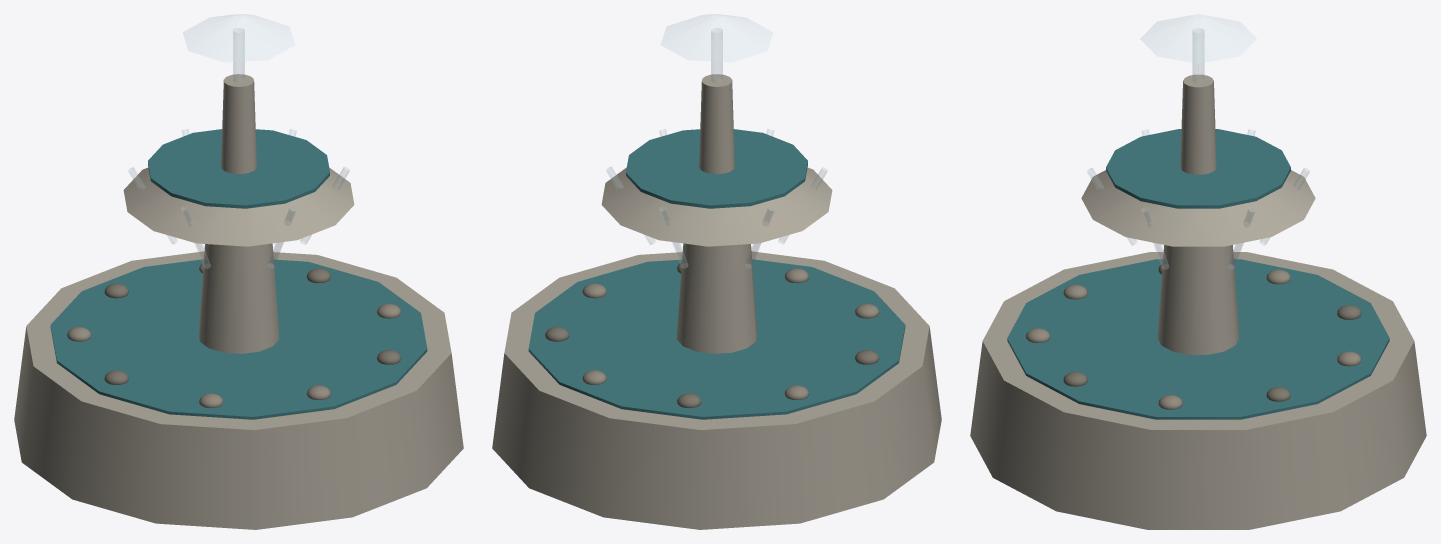
File: fonte-interna.glb
The picture shows the model from 3 angles, left to right: view 1: azimuth 30°, elevation 25°; view 2: azimuth 150°, elevation 25°; view 3: azimuth 270°, elevation 25°; orthographic projection.
Parts seen in each view (by area): view 1: fonte-interna_malha; view 2: fonte-interna_malha; view 3: fonte-interna_malha.
Part boxes in pixels (<box>): fonte-interna_malha: <box>14,14,463,529</box>; fonte-interna_malha: <box>492,14,941,529</box>; fonte-interna_malha: <box>970,14,1426,529</box>.
Bounding box in the file's own units: 1.44 × 1.5 × 1.48.
